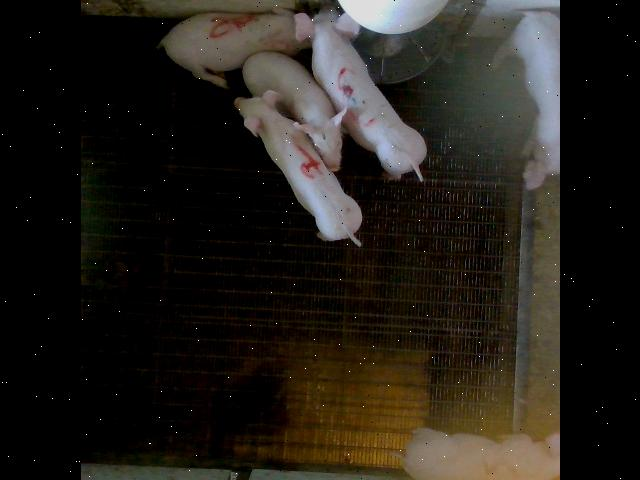pig-1: (510, 11, 559, 189)
pig-2: (401, 429, 558, 480)
pig-3: (292, 8, 424, 180)
pig-4: (234, 91, 361, 246)
pig-5: (158, 11, 309, 88)
